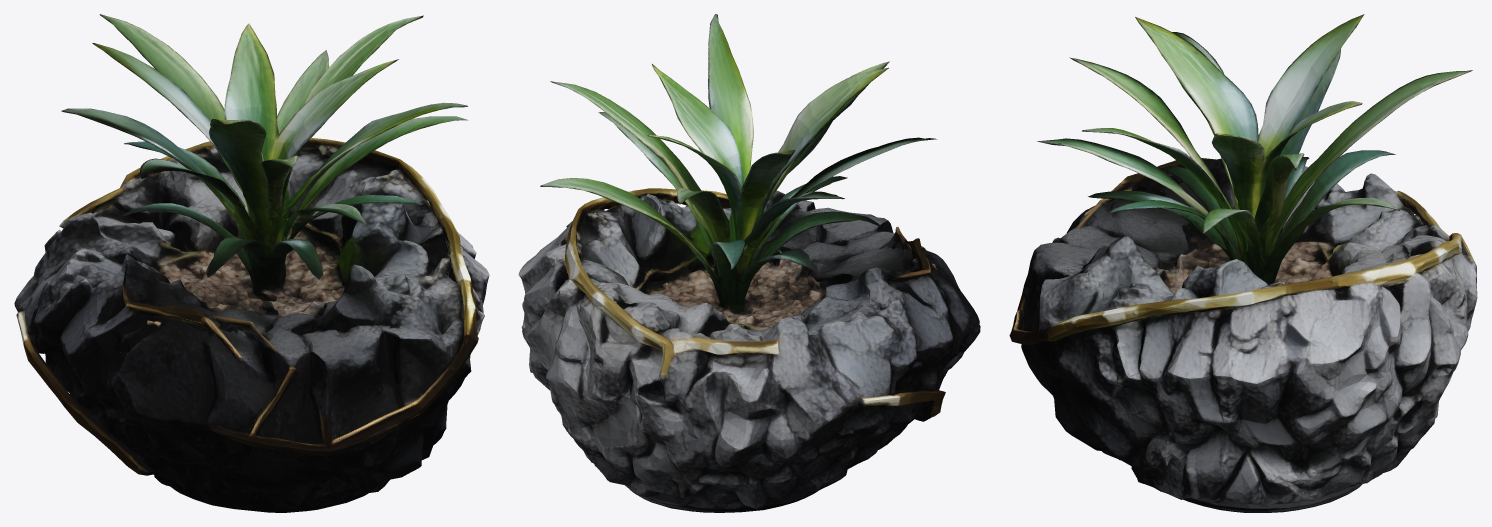
The model's file is lava-rock-plant-holder-art-deco.jpeg.glb.
3 renders of one model, left to right at view 1: azimuth 30°, elevation 25°; view 2: azimuth 150°, elevation 25°; view 3: azimuth 270°, elevation 25°, orthographic. The views are drawn at different scales.
Visible parts, largest first — view 1: world; view 2: world; view 3: world.
Part boxes in pixels (x1,y1,x2,y2): world: [14, 14, 489, 512]; world: [518, 14, 980, 512]; world: [1009, 14, 1477, 512].
Bounding box in the file's own units: 0.9836 × 0.9352 × 0.9986.
Materials: 1 (1 with a texture image).
